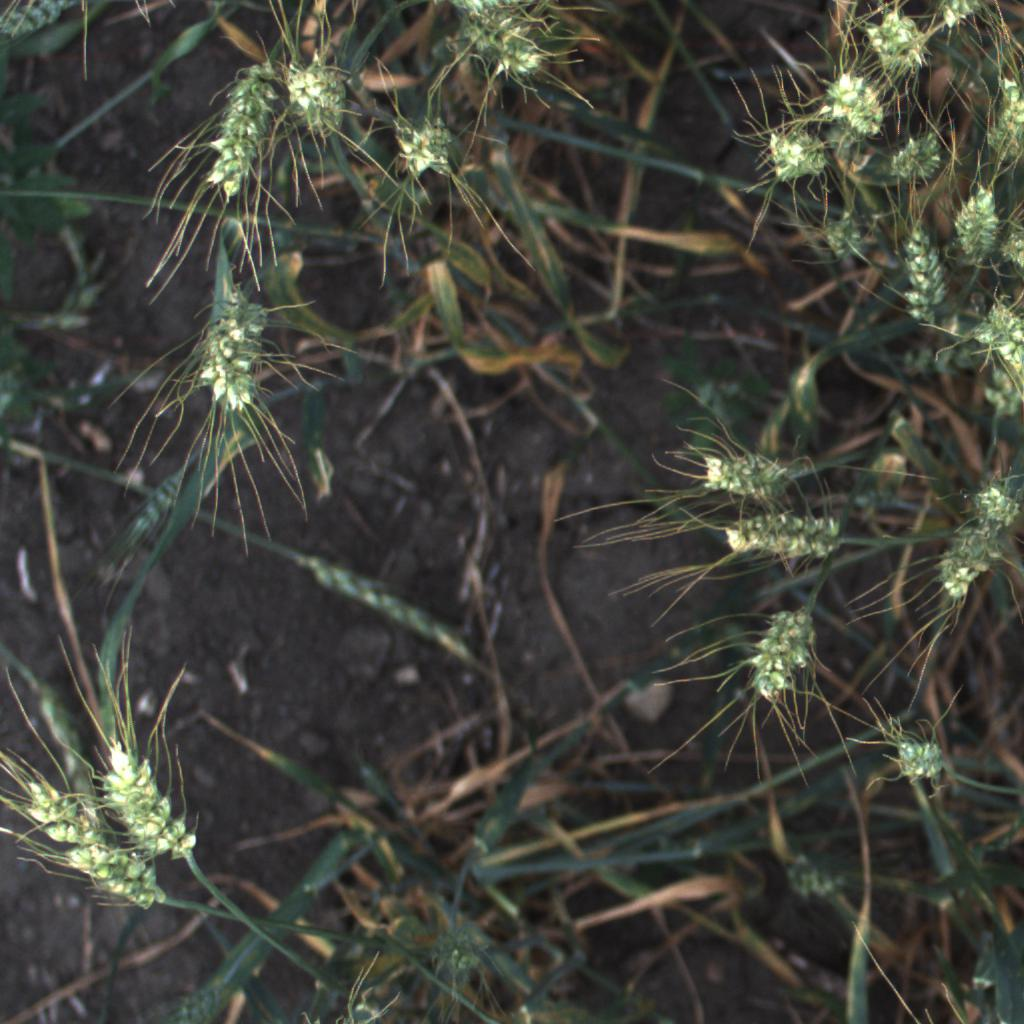0-0: (6, 764, 175, 928), (91, 729, 207, 871), (199, 52, 286, 208), (184, 282, 282, 416), (741, 585, 830, 716), (708, 508, 846, 567), (923, 521, 1017, 606), (893, 213, 955, 338), (741, 111, 835, 191), (852, 0, 939, 83), (811, 64, 897, 141), (687, 448, 802, 505), (450, 0, 540, 59), (879, 727, 956, 793), (951, 180, 1008, 266), (973, 284, 1024, 378), (981, 71, 1024, 168), (884, 129, 957, 185), (287, 52, 347, 118), (397, 118, 457, 181), (490, 27, 556, 84), (960, 473, 1022, 533), (809, 208, 870, 267), (441, 931, 482, 983), (933, 0, 997, 33), (1, 8, 65, 38)
